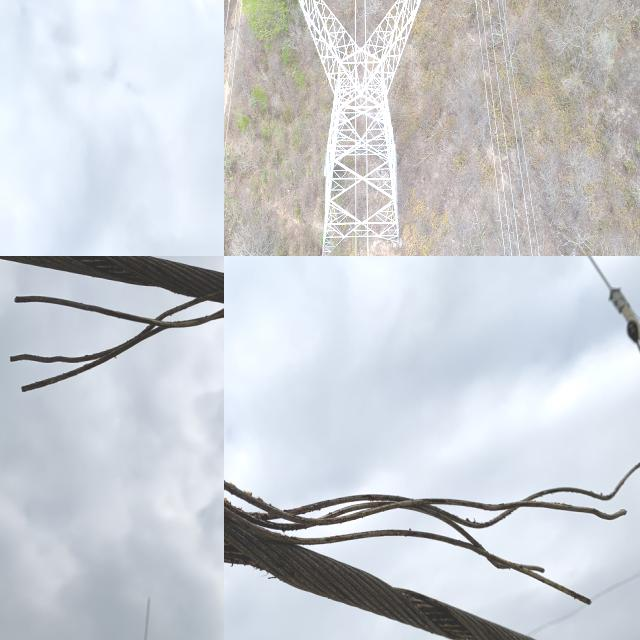杆塔: (224, 0, 505, 256)
电缆破损: (224, 411, 640, 640), (0, 265, 224, 413)
